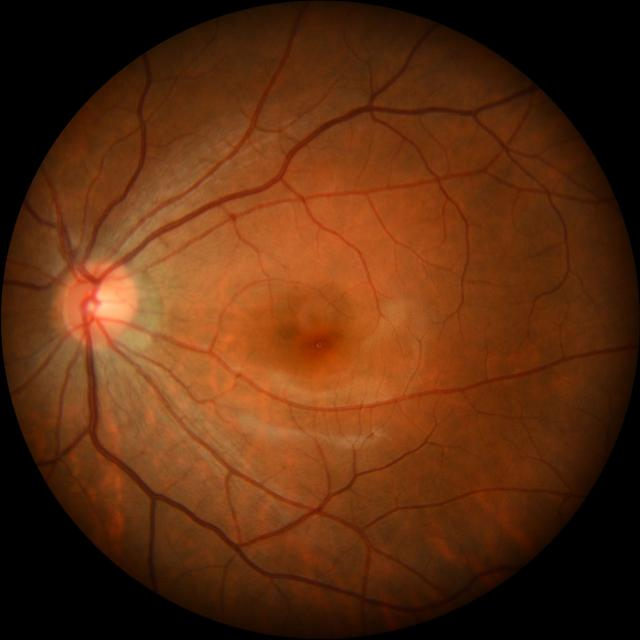OC: (85, 286, 117, 325)
OD: (61, 259, 136, 346)
